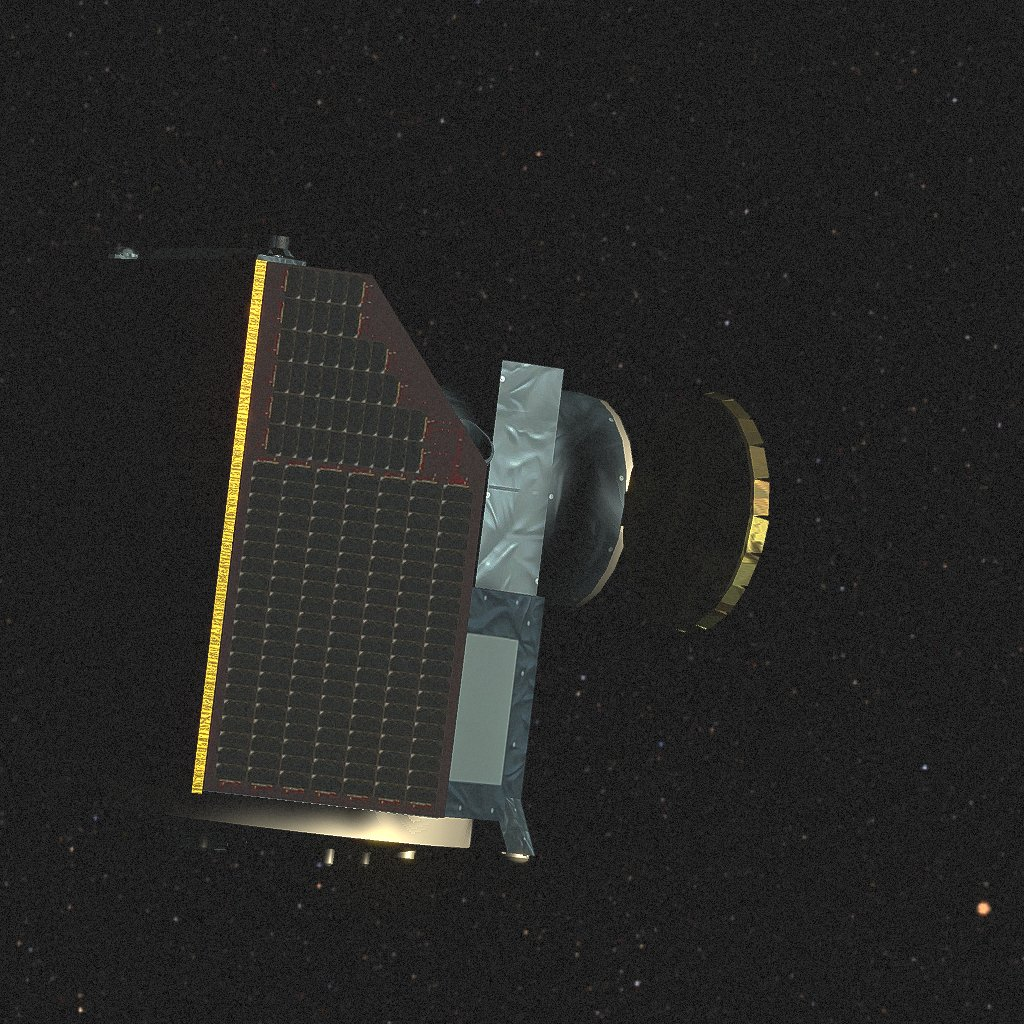cheops: (12, 235, 769, 867)
